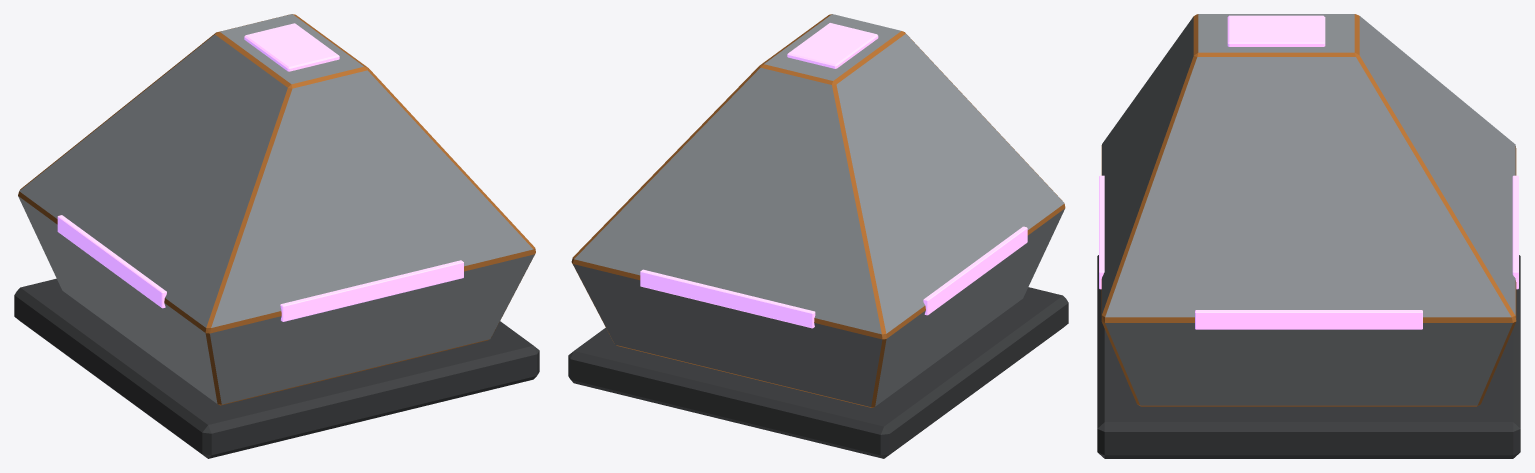
File: R4X_Stealth_LOD1.fbx
The picture shows the model from 3 angles, left to right: view 1: azimuth 30°, elevation 25°; view 2: azimuth 150°, elevation 25°; view 3: azimuth 270°, elevation 25°; orthographic projection. The views are drawn at different scales.
Parts seen in each view (by area): view 1: R4X_Stealth_LOD1; view 2: R4X_Stealth_LOD1; view 3: R4X_Stealth_LOD1.
Part boxes in pixels (x1=…): R4X_Stealth_LOD1: x1=14, y1=14, x2=539, y2=458; R4X_Stealth_LOD1: x1=568, y1=14, x2=1068, y2=458; R4X_Stealth_LOD1: x1=1097, y1=14, x2=1520, y2=458.
Bounding box in the file's own units: 0.52 × 0.466 × 0.52.
